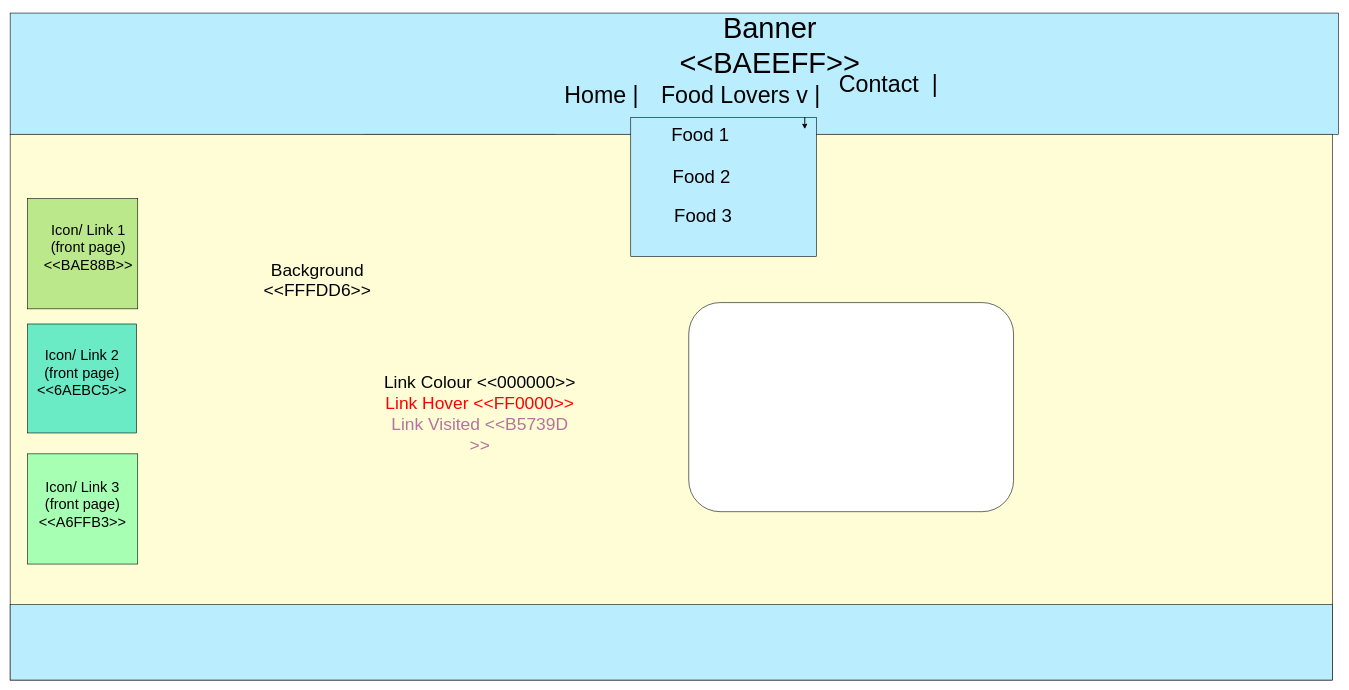
This 1349x690 diagram has some shape labels left out. Here are the shapes that lost their labels. From the top down, the centre of each, then its label:
At (851,407): "About Me (front and contact) Summary of Food (Food pages) <<FFFFFF>>".
At (671,642): "Footer <<BAEEFF>>".
